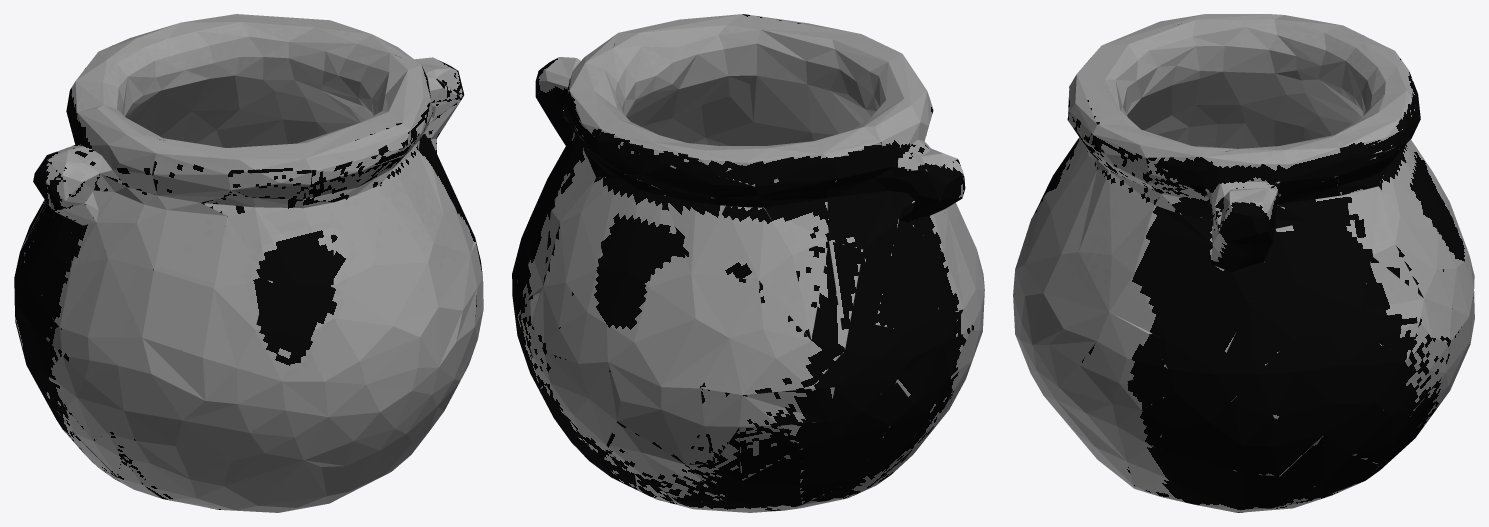
The picture shows the model from 3 angles, left to right: view 1: azimuth 30°, elevation 25°; view 2: azimuth 150°, elevation 25°; view 3: azimuth 270°, elevation 25°; orthographic projection.
Visible parts, largest first — view 1: OBJ12f; view 2: OBJ12f; view 3: OBJ12f.
Part boxes in pixels (<box>): OBJ12f: <box>14,14,483,512</box>; OBJ12f: <box>512,14,984,512</box>; OBJ12f: <box>1013,14,1474,512</box>.
Bounding box in the file's own units: 0.3394 × 0.3017 × 0.3307.
1 material, 1 textured.
